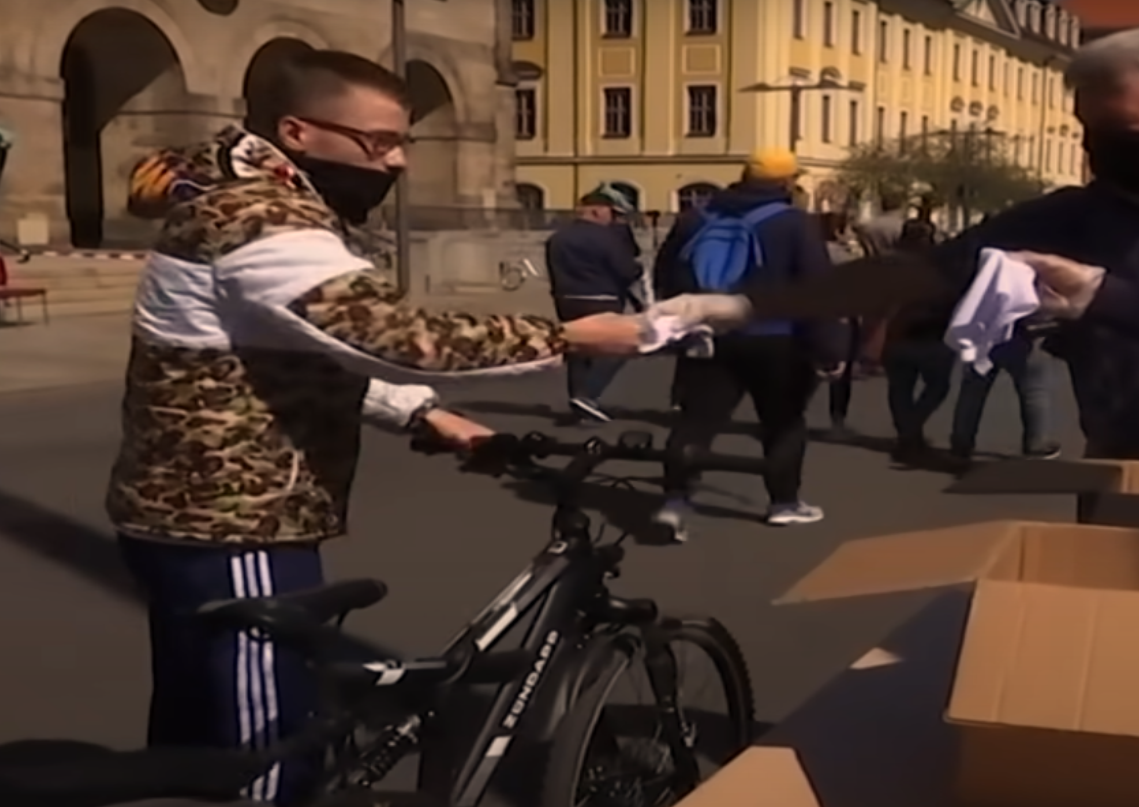mask_weared_incorrect: (248, 47, 421, 222)
